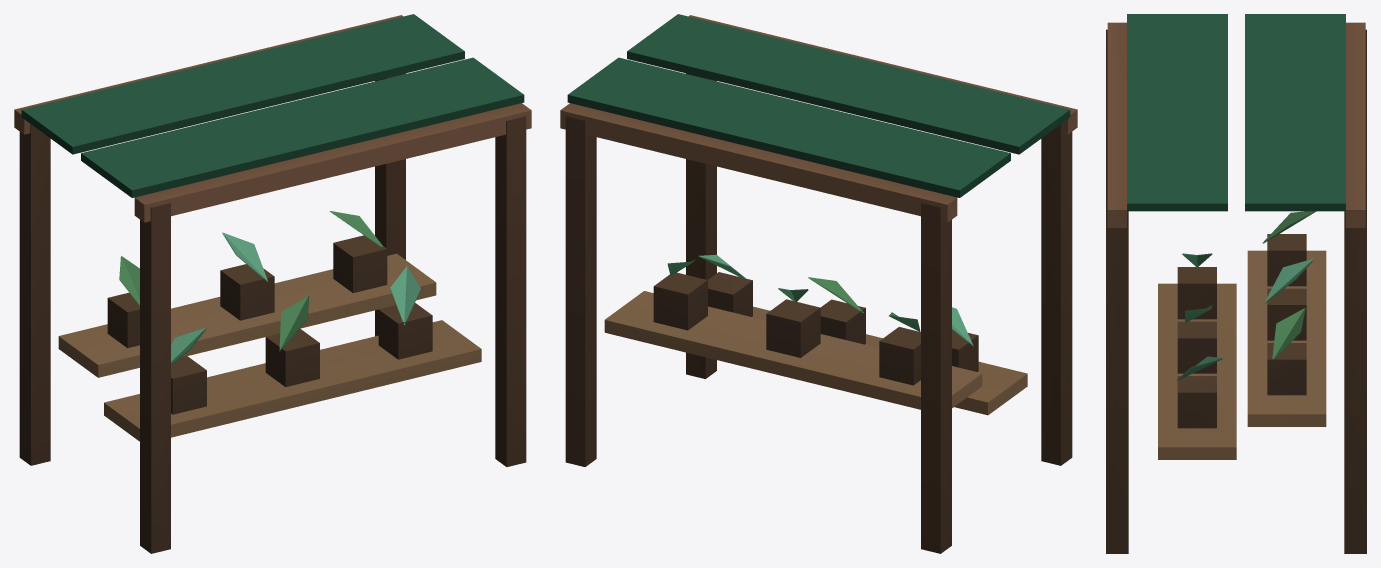
The model's file is custom-viveiro.glb.
3 views of the same model, side by side, from view 1: azimuth 30°, elevation 25°; view 2: azimuth 150°, elevation 25°; view 3: azimuth 270°, elevation 25° (orthographic).
Visible parts, largest first — view 1: viveiro; view 2: viveiro; view 3: viveiro.
Part boxes in pixels (x1,y1,x2,y2): viveiro: [14, 14, 531, 553]; viveiro: [560, 14, 1077, 553]; viveiro: [1106, 14, 1366, 553].
Bounding box in the file's own units: 3.2 × 2.79 × 1.86.
